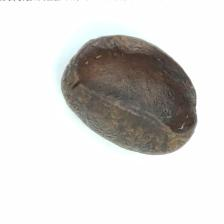NG: (138, 39, 199, 137), (72, 36, 136, 116)
